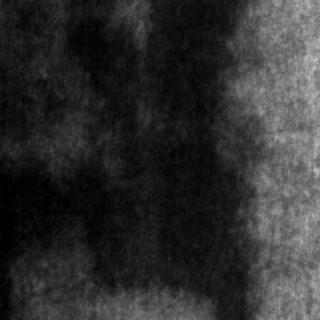patches: (64, 111, 260, 301), (146, 0, 234, 124), (1, 144, 74, 268), (51, 10, 132, 118)
